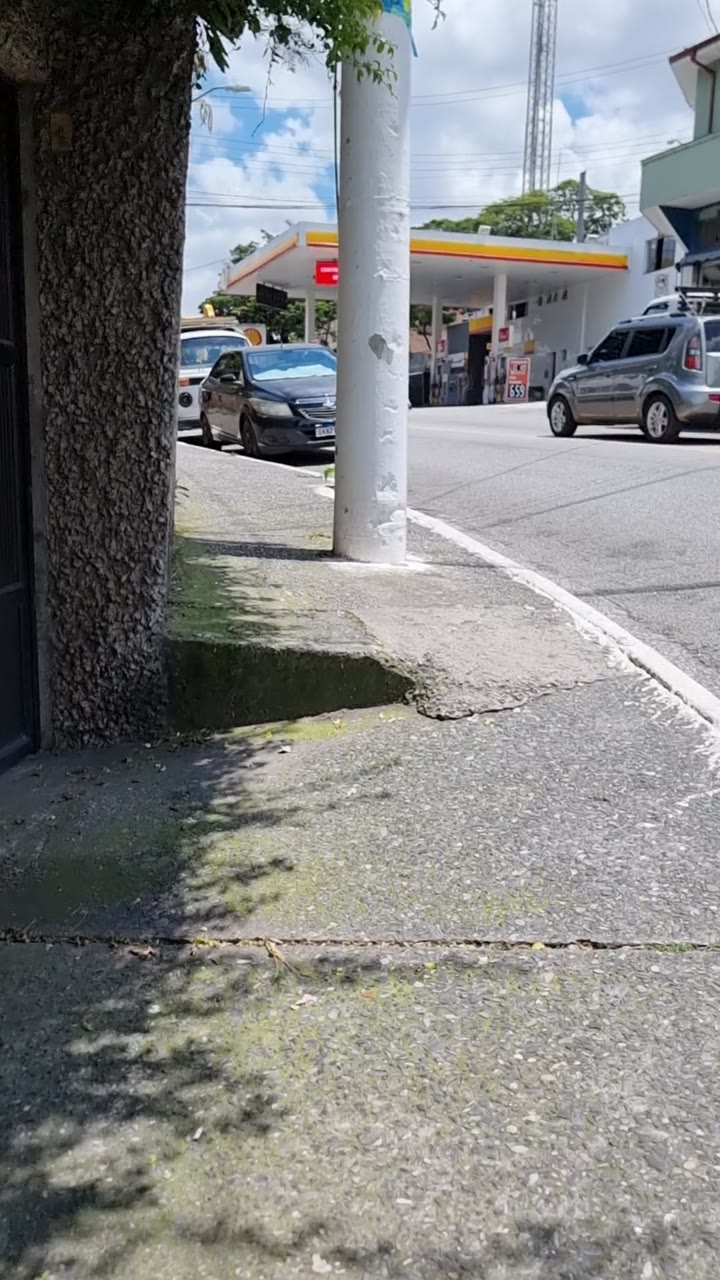buraco: (144, 627, 418, 755)
obstaculo: (36, 0, 144, 768), (334, 1, 415, 558)
